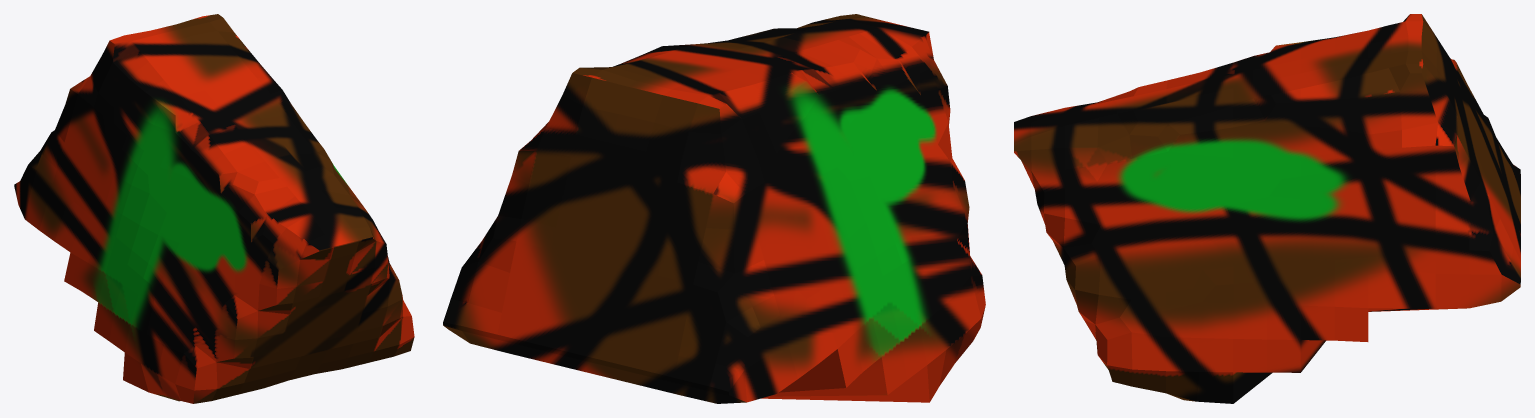
Rendered from DemonHead.fbx.
3 renders of one model, left to right at view 1: azimuth 30°, elevation 25°; view 2: azimuth 150°, elevation 25°; view 3: azimuth 270°, elevation 25°, orthographic. The views are drawn at different scales.
Visible parts, largest first — view 1: Head; view 2: Head; view 3: Head.
Boxes of the visible parts, <box> form: Head: <box>14,14,414,403</box>; Head: <box>443,14,985,403</box>; Head: <box>1014,14,1520,403</box>.
Size of the model in its own units: 37.82 by 39.7 by 59.28.
1 material, 1 textured.
